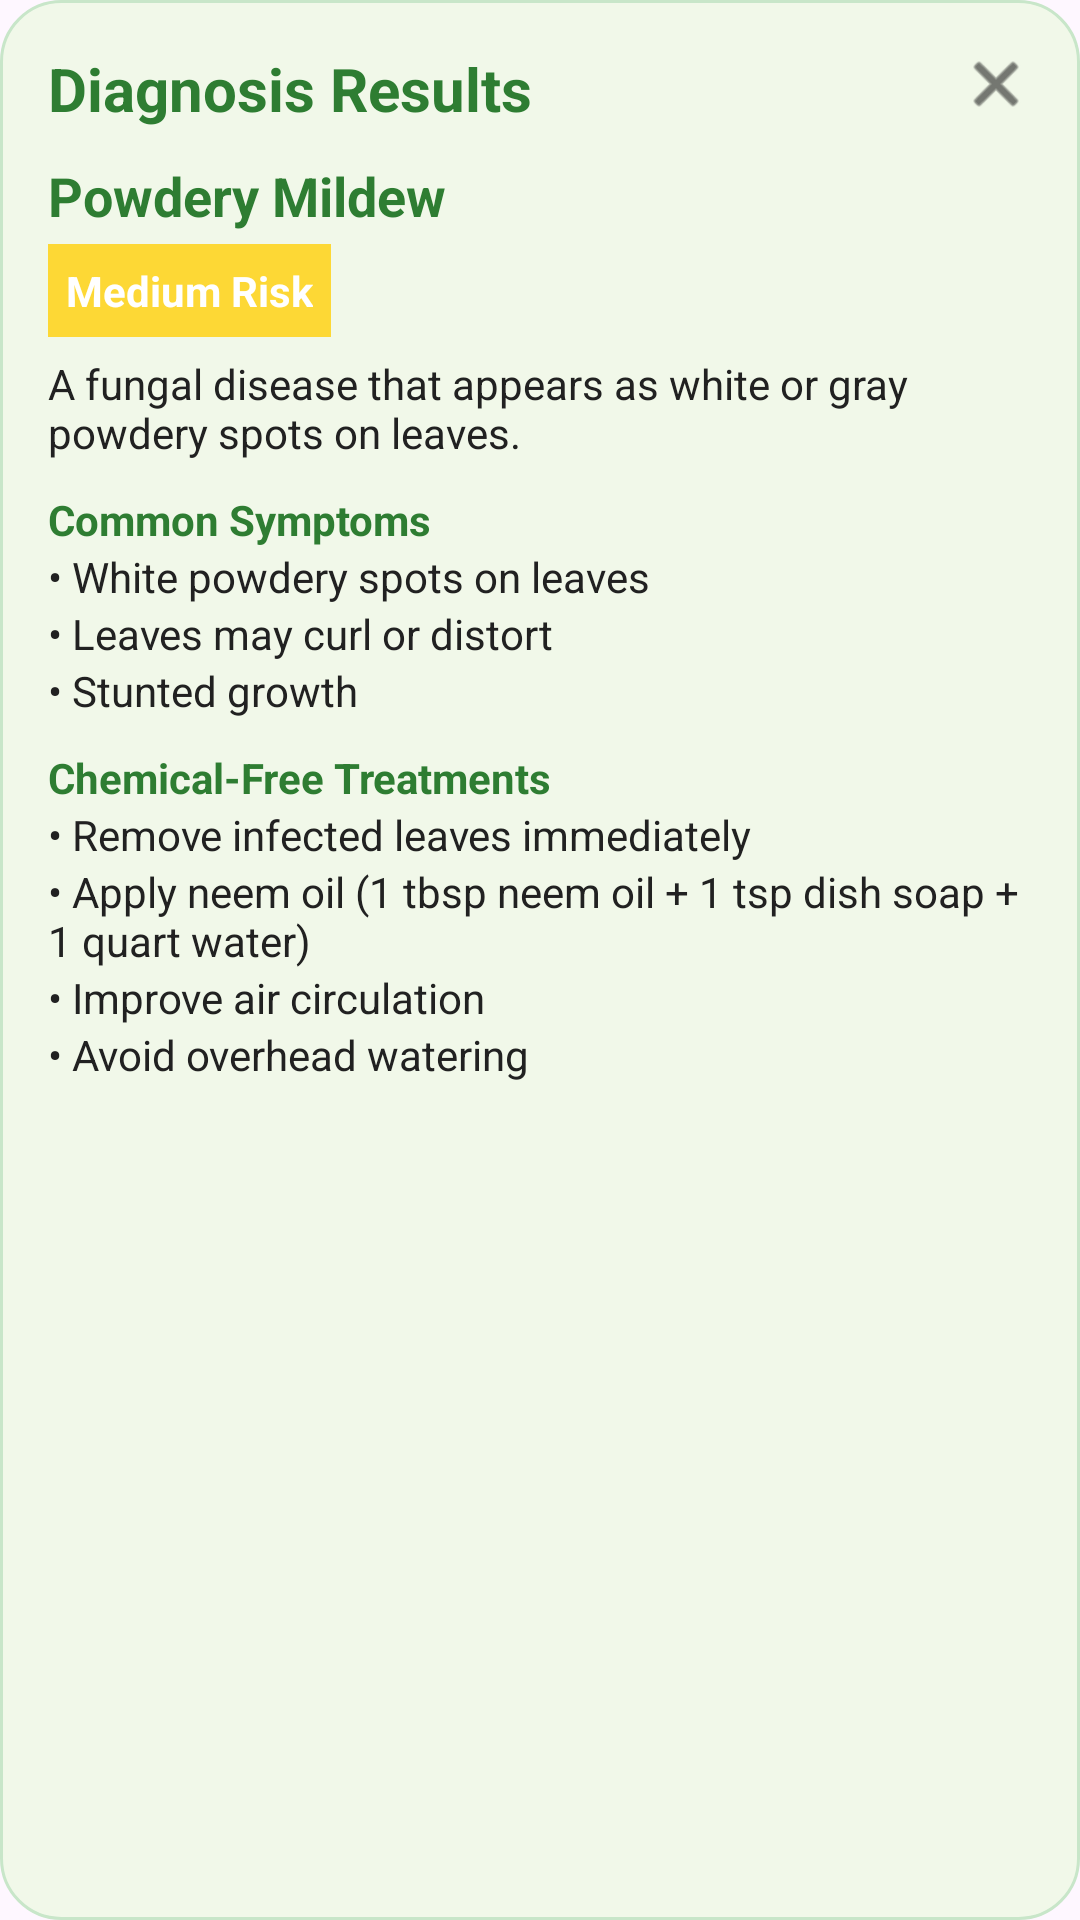

Named icons in this screenshot (1080 × 1920) and their bounding boxes, (x1, y1, x2, y2):
close clear cancel: (973, 61, 1019, 107)
